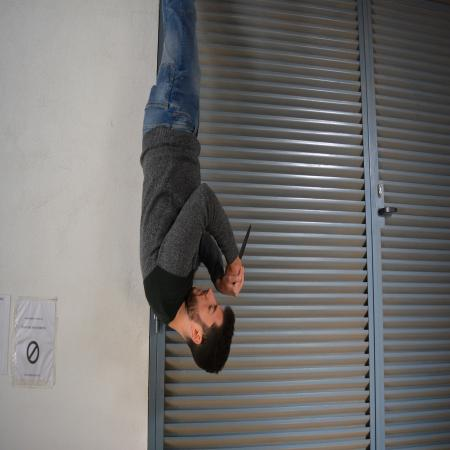long weapon: (235, 220, 253, 269)
